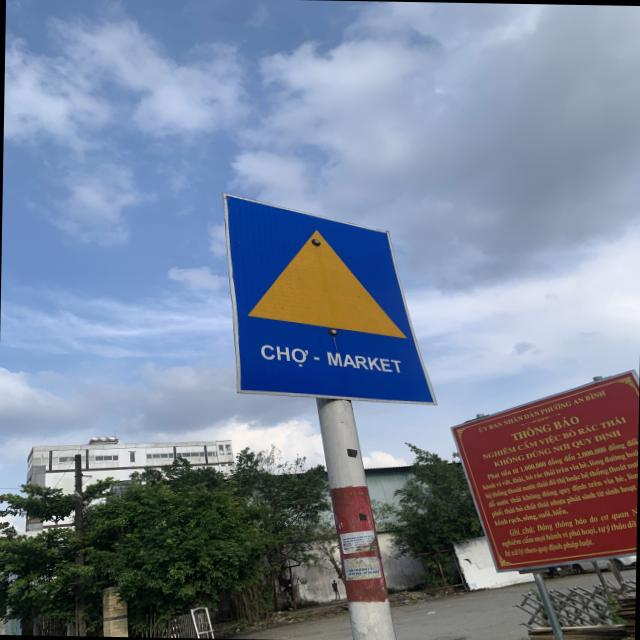Cho_Quay_Xe: (220, 194, 440, 403)
